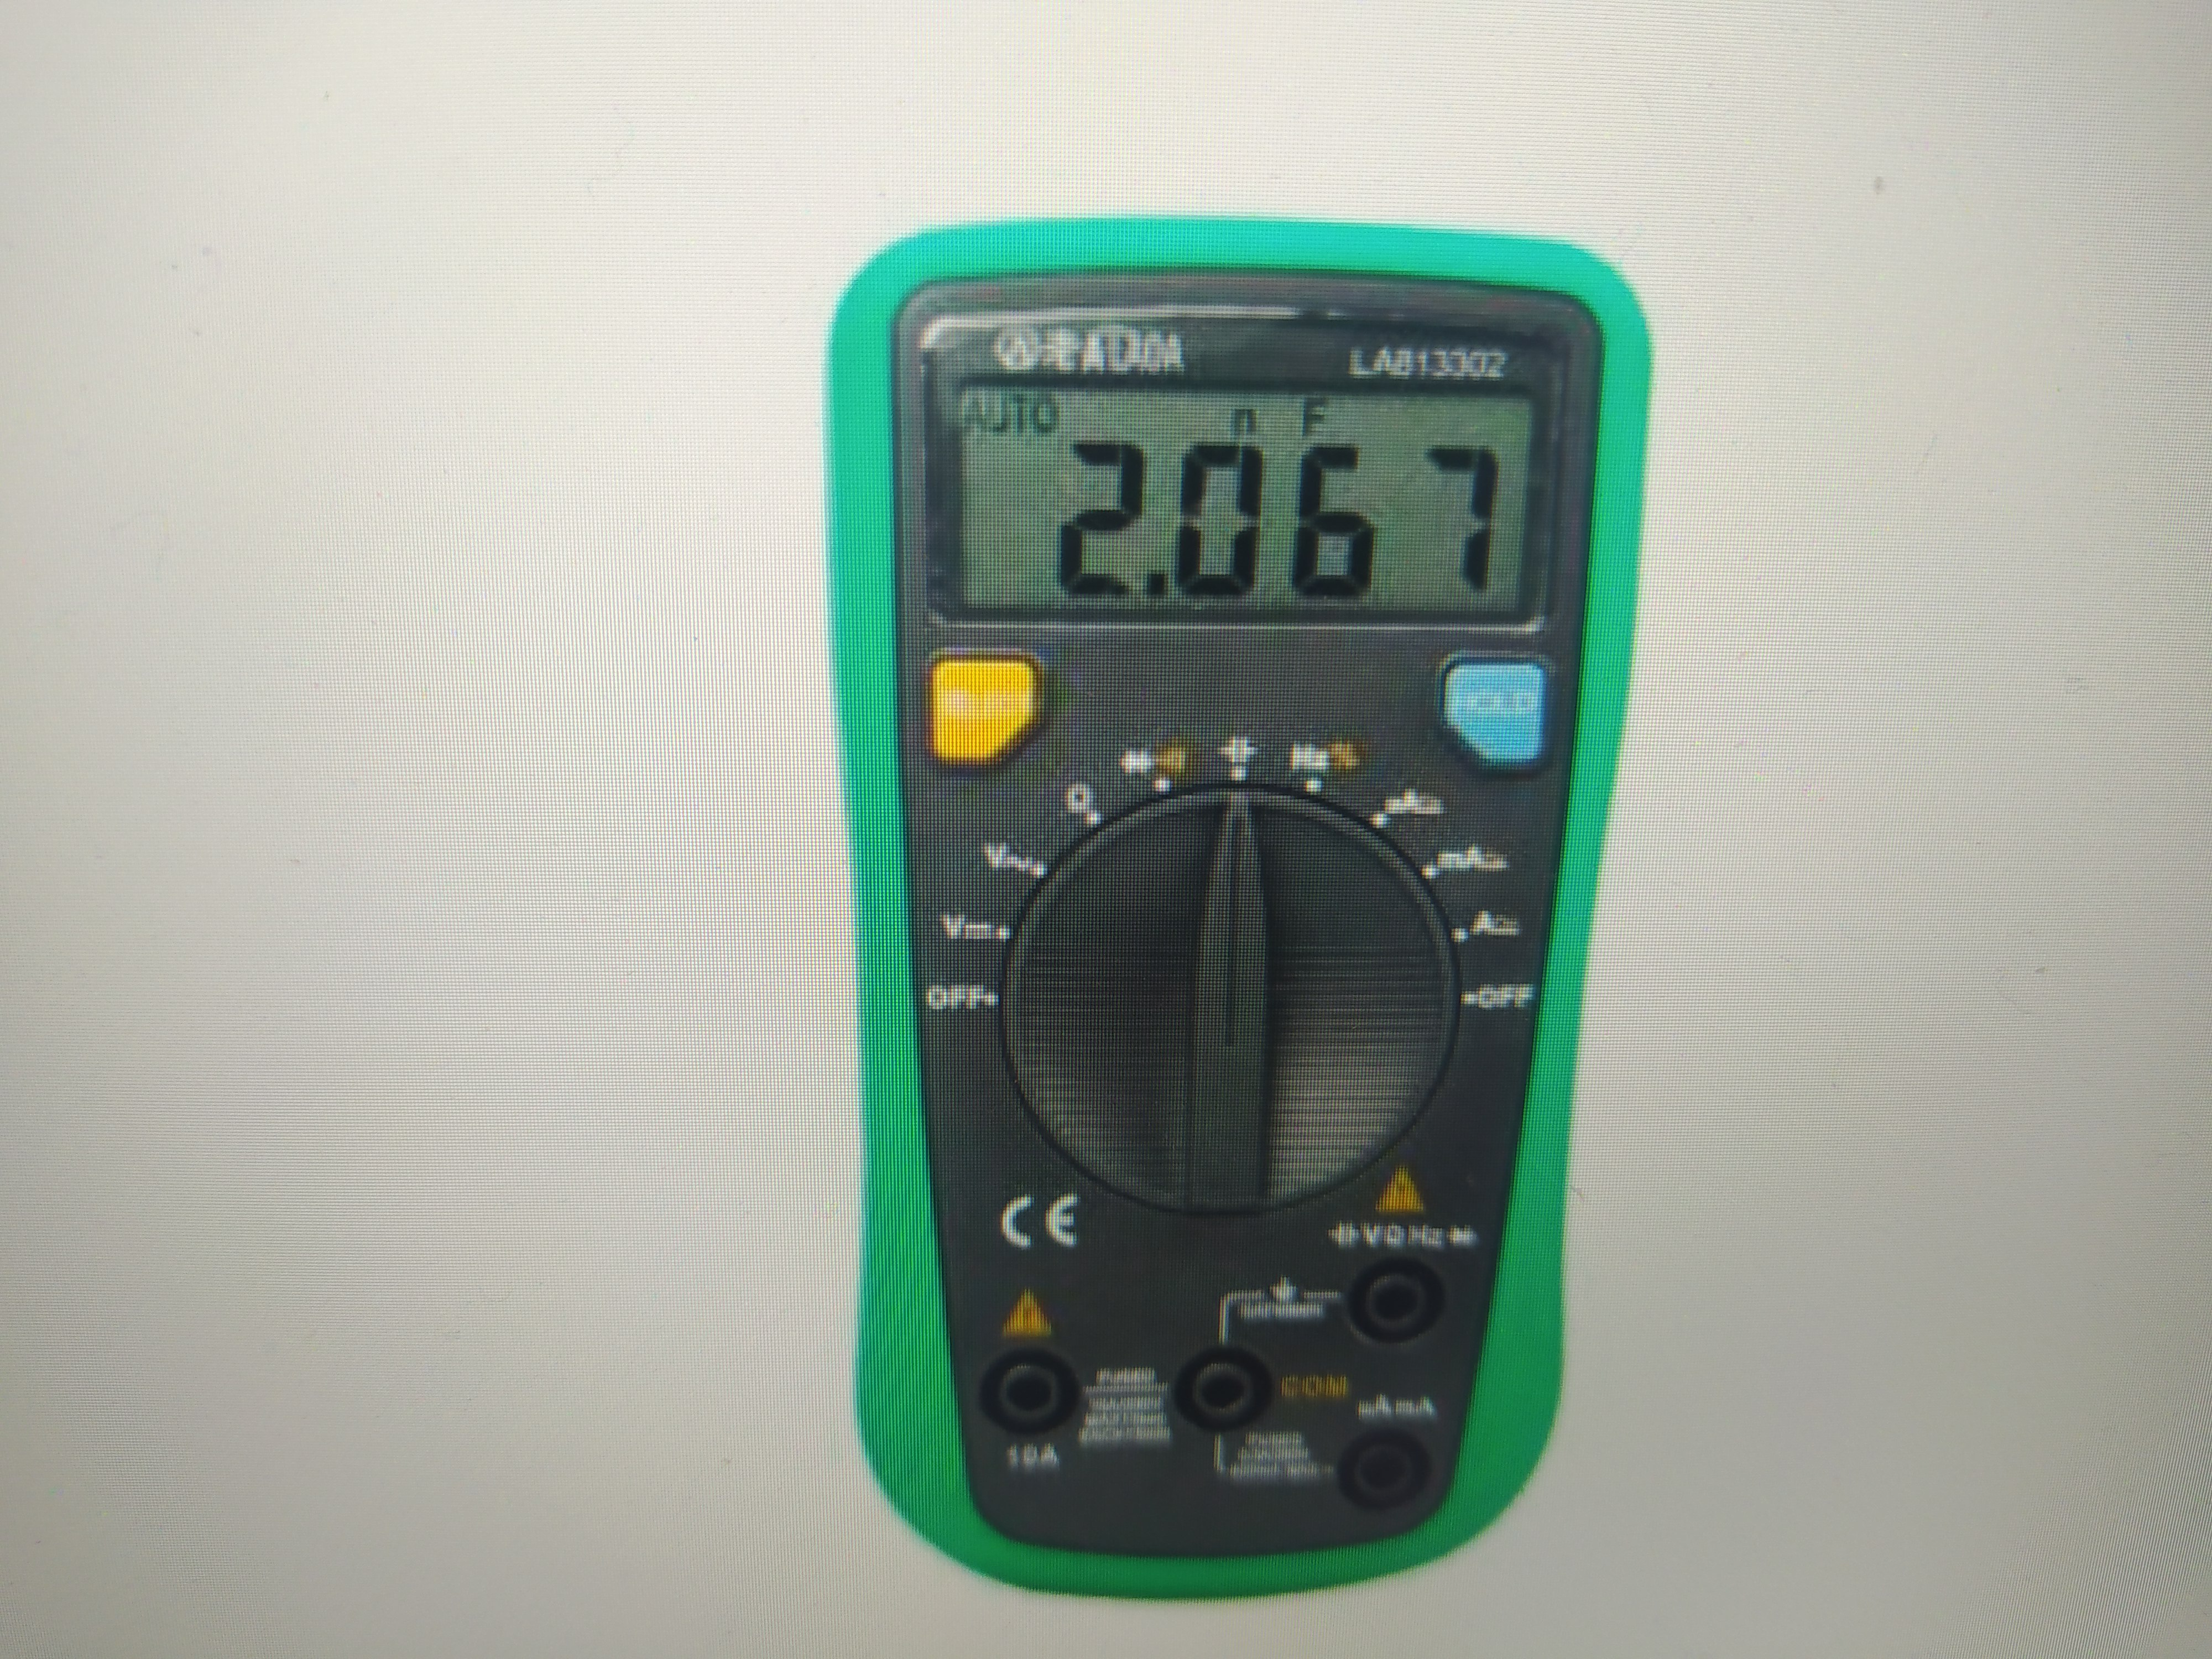.: (1148, 432, 1170, 606)
0: (1172, 434, 1270, 617)
2: (1050, 434, 1150, 608)
6: (1289, 441, 1385, 606)
7: (1421, 443, 1507, 603)
